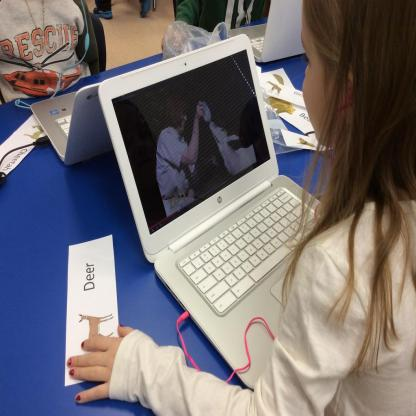board: (92, 26, 328, 374), (30, 83, 114, 166), (227, 0, 306, 64)
